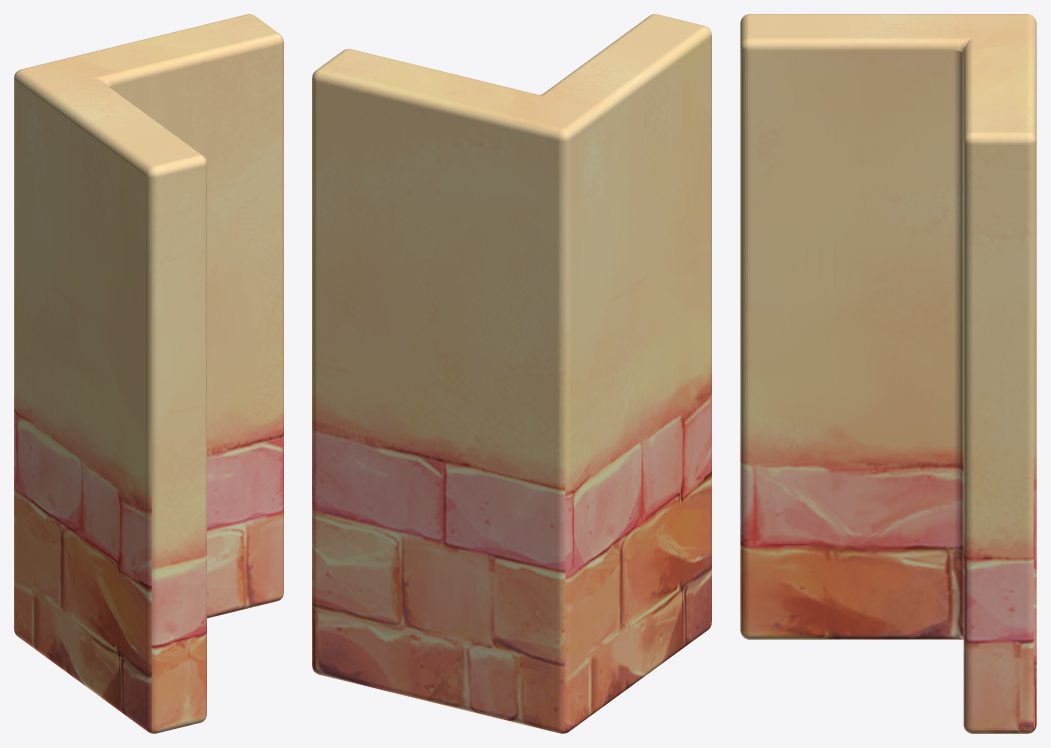
Rendered from Pared_corner_izq_.fbx.
3 renders of one model, left to right at view 1: azimuth 30°, elevation 25°; view 2: azimuth 150°, elevation 25°; view 3: azimuth 270°, elevation 25°, orthographic. The views are drawn at different scales.
Visible parts, largest first — view 1: Pared_corner_izq; view 2: Pared_corner_izq; view 3: Pared_corner_izq.
Part boxes in pixels (x1=…): Pared_corner_izq: x1=14, y1=14, x2=283, y2=733; Pared_corner_izq: x1=312, y1=14, x2=711, y2=733; Pared_corner_izq: x1=740, y1=14, x2=1036, y2=733.
Bounding box in the file's own units: 401 × 900 × 402.
